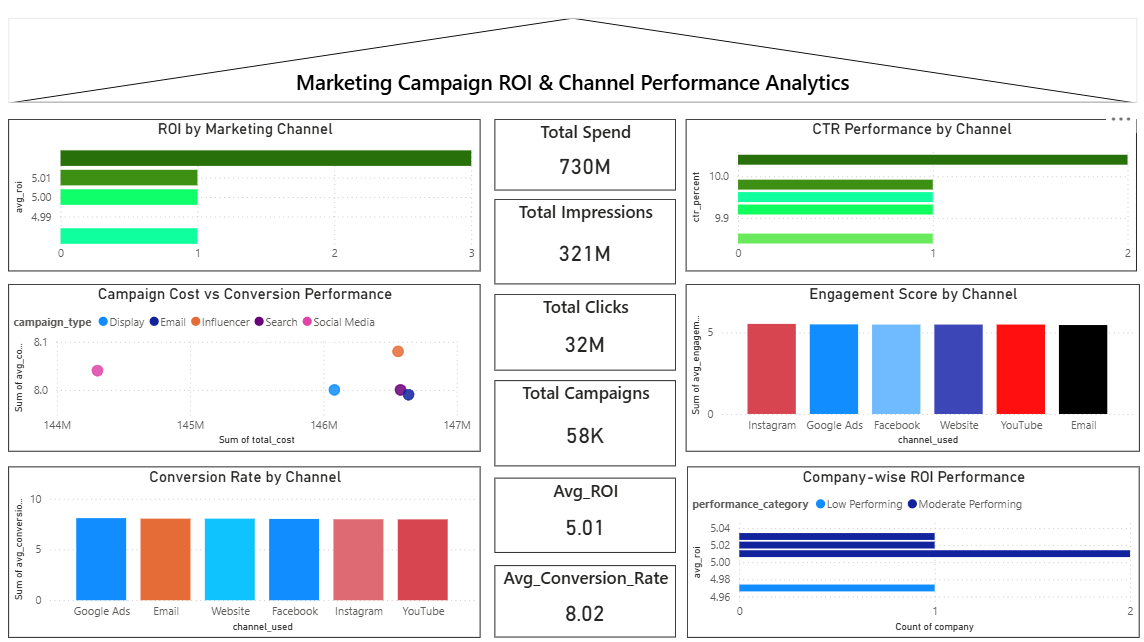

Layout of this report page (visuals, bound fields, positions):
{"tool":"powerbi","page":{"name":"Page 1","canvas":[1280,720],"ordinal":0},"visuals":[{"type":"card","title":"Total Spend","fields":{"Values":["Sum(campaign_performance_overview.total_spend)"]},"box":[557.1,137.2,199,78.2],"z":0},{"type":"card","title":"Total Impressions","fields":{"Values":["Sum(campaign_performance_overview.total_impressions)"]},"box":[557.1,225,199,93.3],"z":2},{"type":"card","title":"Total Clicks","fields":{"Values":["Sum(campaign_performance_overview.total_clicks)"]},"box":[557.1,329.3,199,83.7],"z":3},{"type":"card","title":"Total Campaigns","fields":{"Values":["Sum(campaign_performance_overview.total_campaigns)"]},"box":[557.1,424,199,94.7],"z":4},{"type":"card","title":"Avg_ROI","fields":{"Values":["Sum(campaign_performance_overview.avg_roi)"]},"box":[557.1,531,199,82.3],"z":5},{"type":"card","title":"Avg_Conversion_Rate","fields":{"Values":["Sum(campaign_performance_overview.avg_conversion_rate_percent)"]},"box":[557.1,627.1,199,79.6],"z":6},{"type":"clusteredBarChart","title":"ROI by Marketing Channel","fields":{"Y":["CountNonNull(channel_effectiveness.channel_used)"],"Category":["channel_effectiveness.avg_roi"]},"box":[23.3,137.2,518.7,167.4],"z":7},{"type":"clusteredColumnChart","title":"Conversion Rate by Channel","fields":{"Category":["channel_effectiveness.channel_used"],"Y":["Sum(channel_effectiveness.avg_conversion_rate_percent)"]},"box":[23.3,518.7,518.7,188],"z":8},{"type":"scatterChart","title":"Campaign Cost vs Conversion Performance","fields":{"X":["Sum(cost vs conversion rate.total_cost)"],"Y":["Sum(cost vs conversion rate.avg_conversion_rate_percent)"],"Series":["cost vs conversion rate.campaign_type"],"Size":["Sum(cost vs conversion rate.avg_roi)"]},"box":[23.3,318.4,518.7,183.9],"z":9},{"type":"clusteredBarChart","title":"CTR Performance by Channel","fields":{"Y":["CountNonNull(ctr & engagement analysis.channel_used)"],"Category":["ctr & engagement analysis.ctr_percent"]},"box":[767.1,137.2,495.4,167.4],"z":10},{"type":"columnChart","title":"Engagement Score by Channel","fields":{"Category":["ctr & engagement analysis.channel_used"],"Y":["Sum(ctr & engagement analysis.avg_engagement_score)"]},"box":[767.1,318.4,498.1,183.9],"z":11},{"type":"barChart","title":"Company-wise ROI Performance","fields":{"Y":["CountNonNull(roi & revenue impact.company)"],"Category":["roi & revenue impact.avg_roi"],"Series":["roi & revenue impact.performance_category"]},"box":[768.4,518.7,496.7,188],"z":12},{"type":"shape","box":[23.3,26.1,1239.1,93.3],"z":13}]}

Visuals, with their boxes in screenshot pixels (x1, y1, x2, y2), scaled from the page's 1280x720 canvas onto the 1144x642 screenshot:
"Total Spend" card: crop(498, 122, 676, 192)
"Total Impressions" card: crop(498, 201, 676, 284)
"Total Clicks" card: crop(498, 294, 676, 368)
"Total Campaigns" card: crop(498, 378, 676, 463)
"Avg_ROI" card: crop(498, 473, 676, 547)
"Avg_Conversion_Rate" card: crop(498, 559, 676, 630)
"ROI by Marketing Channel" clusteredBarChart: crop(21, 122, 484, 272)
"Conversion Rate by Channel" clusteredColumnChart: crop(21, 463, 484, 630)
"Campaign Cost vs Conversion Performance" scatterChart: crop(21, 284, 484, 448)
"CTR Performance by Channel" clusteredBarChart: crop(686, 122, 1128, 272)
"Engagement Score by Channel" columnChart: crop(686, 284, 1131, 448)
"Company-wise ROI Performance" barChart: crop(687, 463, 1131, 630)
shape: crop(21, 23, 1128, 106)
